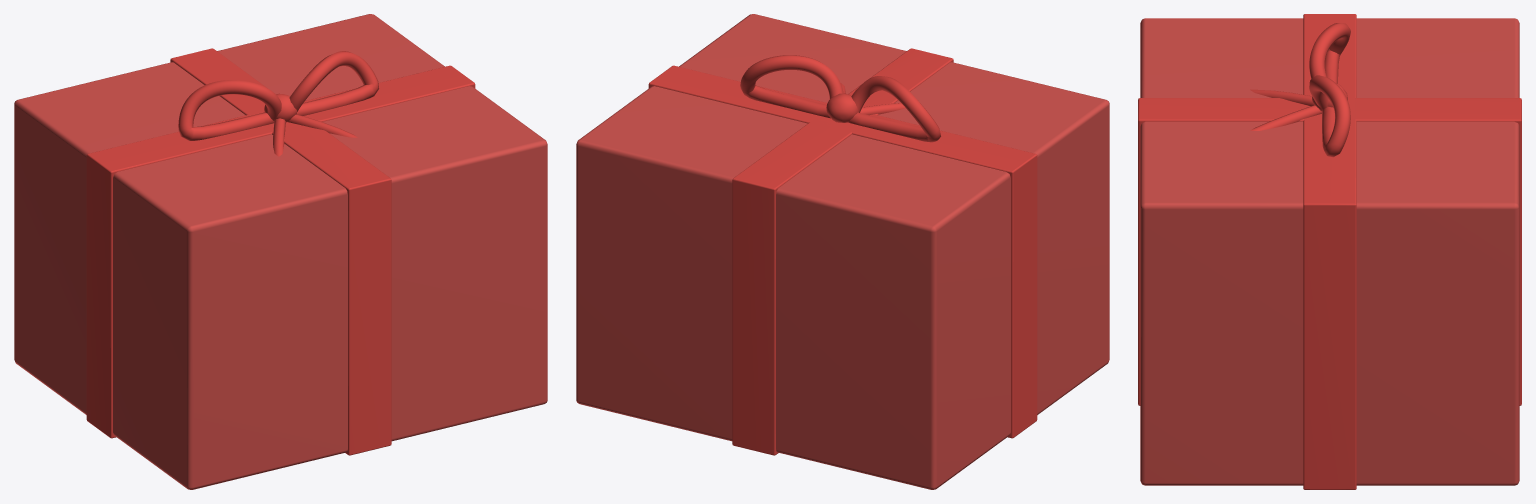
File: lp_gift.glb
The picture shows the model from 3 angles, left to right: view 1: azimuth 30°, elevation 25°; view 2: azimuth 150°, elevation 25°; view 3: azimuth 270°, elevation 25°; orthographic projection. The views are drawn at different scales.
Parts seen in each view (by area): view 1: lp_gift; view 2: lp_gift; view 3: lp_gift.
Boxes of the visible parts, box(x1,y1,x2,y2) form: lp_gift: box(14, 14, 547, 489); lp_gift: box(576, 14, 1109, 489); lp_gift: box(1138, 14, 1521, 489).
Size of the model in its own units: 1.01 by 0.8413 by 0.8602.
